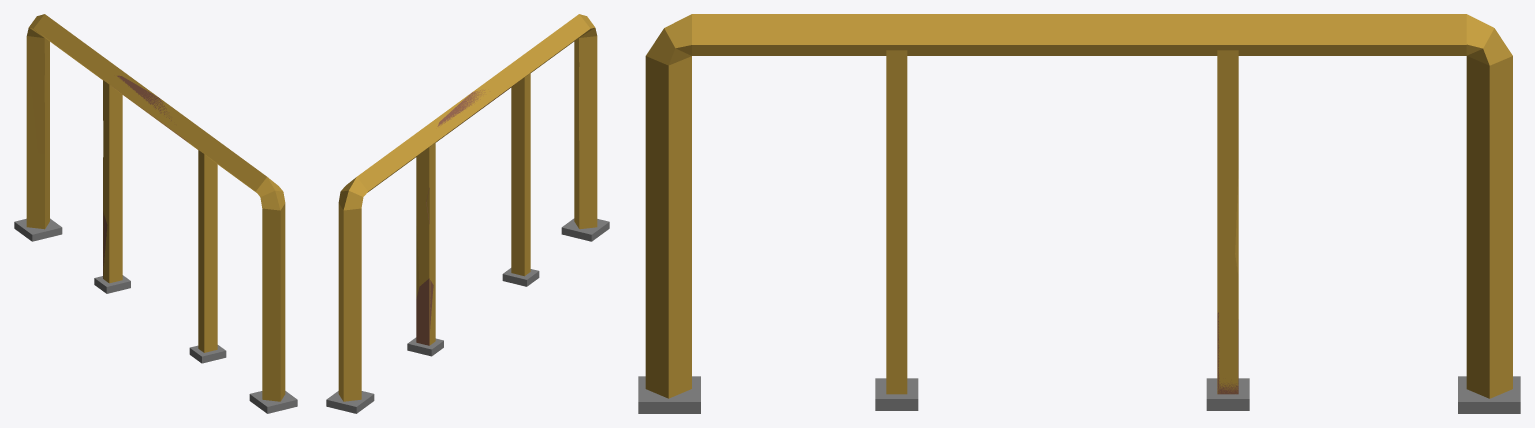
Rendered from model_stairs_railing.fbx.
3 renders of one model, left to right at view 1: azimuth 30°, elevation 25°; view 2: azimuth 150°, elevation 25°; view 3: azimuth 270°, elevation 25°, orthographic. The views are drawn at different scales.
Parts seen in each view (by area): view 1: model_stairs_railing, model_stairs_railing_col; view 2: model_stairs_railing, model_stairs_railing_col; view 3: model_stairs_railing_col, model_stairs_railing.
Boxes of the visible parts, left/top/right/bottom form: model_stairs_railing: left=14, top=14, right=297, bottom=413; model_stairs_railing_col: left=26, top=15, right=285, bottom=401; model_stairs_railing: left=326, top=14, right=609, bottom=413; model_stairs_railing_col: left=338, top=14, right=597, bottom=401; model_stairs_railing_col: left=645, top=14, right=1512, bottom=398; model_stairs_railing: left=638, top=14, right=1520, bottom=413.
Size of the model in its own units: 15.88 by 112 by 231.
Materials: 1 (1 with a texture image).
